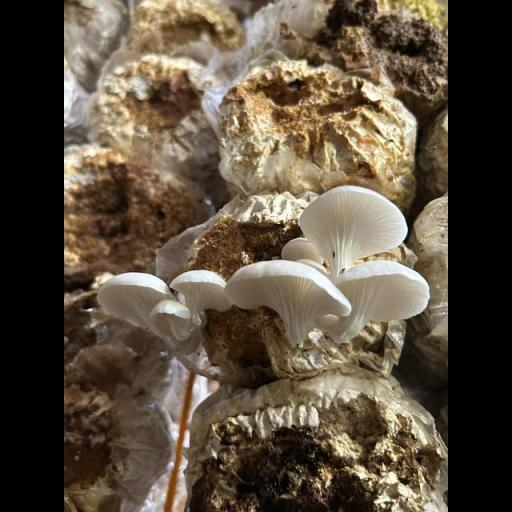White Oyster Mushroom: (102, 187, 431, 355)
